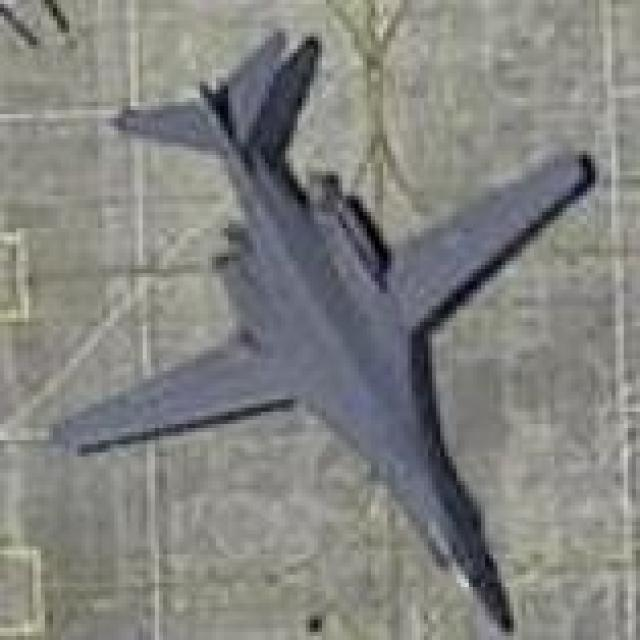B-1_TopDown: (45, 24, 595, 636)
